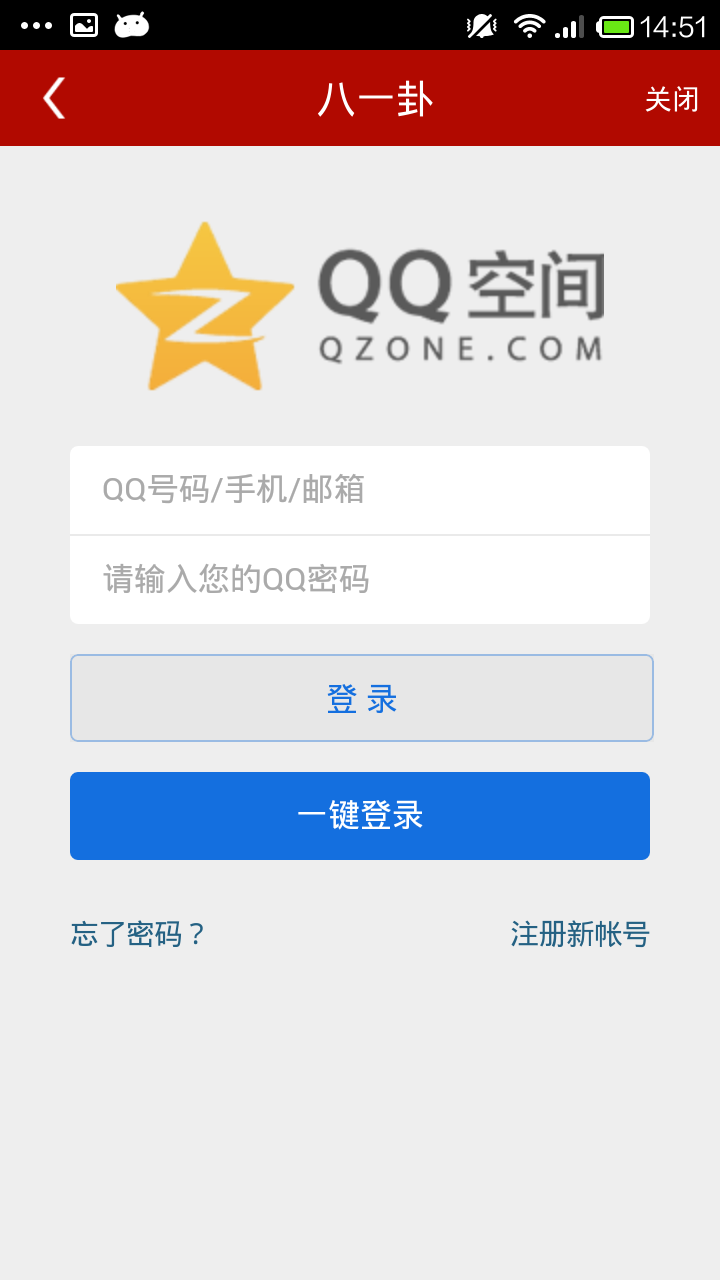button: (44, 762, 676, 876), (56, 644, 671, 756)
textview: (26, 433, 704, 630)
